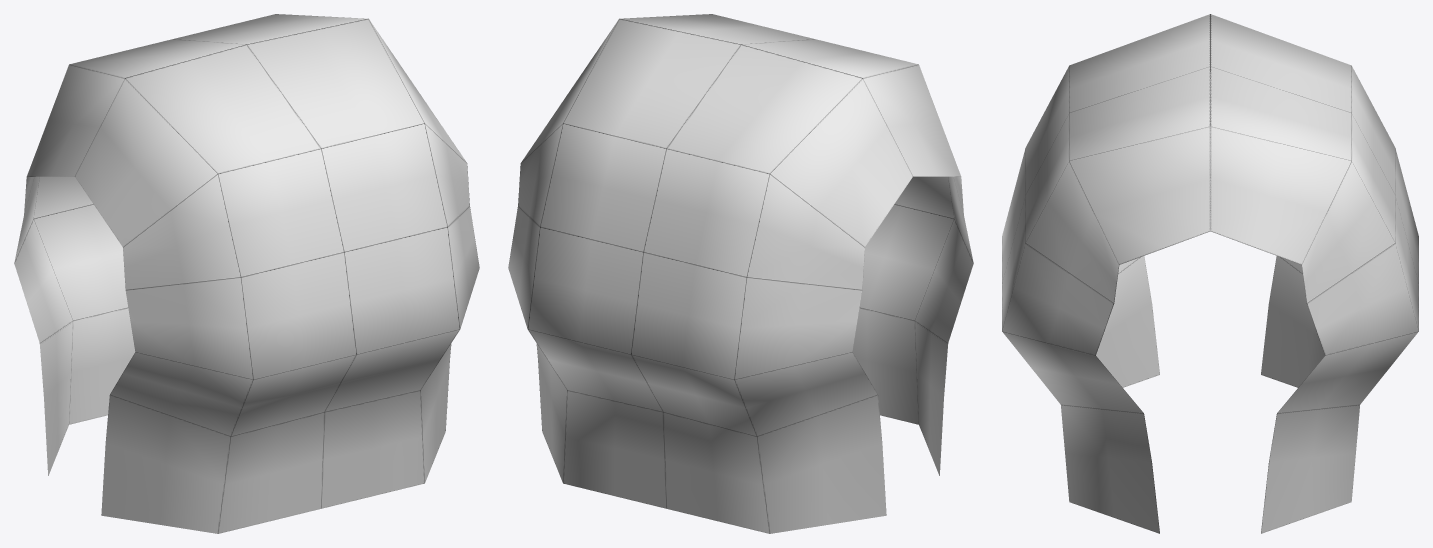
Rendered from Wall_Straight.fbx.
3 views of the same model, side by side, from view 1: azimuth 30°, elevation 25°; view 2: azimuth 150°, elevation 25°; view 3: azimuth 270°, elevation 25° (orthographic). The views are drawn at different scales.
Parts seen in each view (by area): view 1: Cube; view 2: Cube; view 3: Cube.
Boxes of the visible parts, left/top/right/bottom form: Cube: left=14, top=14, right=479, bottom=533; Cube: left=508, top=14, right=973, bottom=533; Cube: left=1002, top=14, right=1418, bottom=533.
Size of the model in its own units: 400 by 455 by 443.
